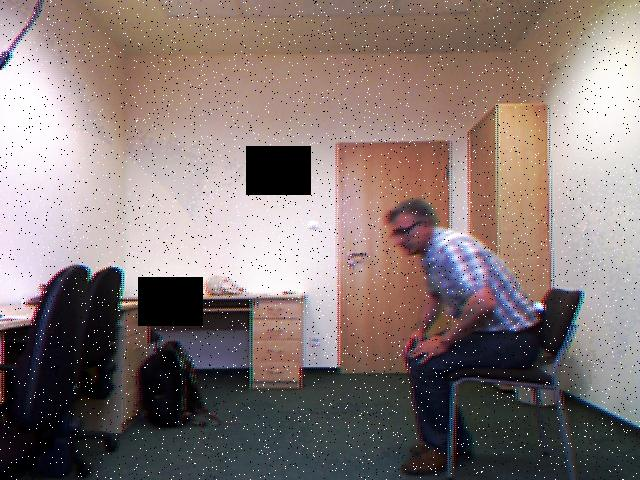sitting: (371, 189, 563, 480)
